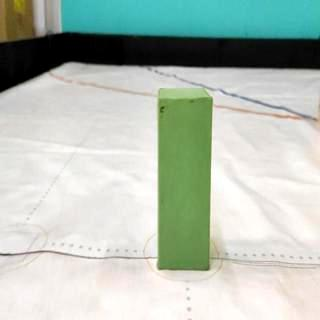greenbox: (158, 90, 212, 270)
